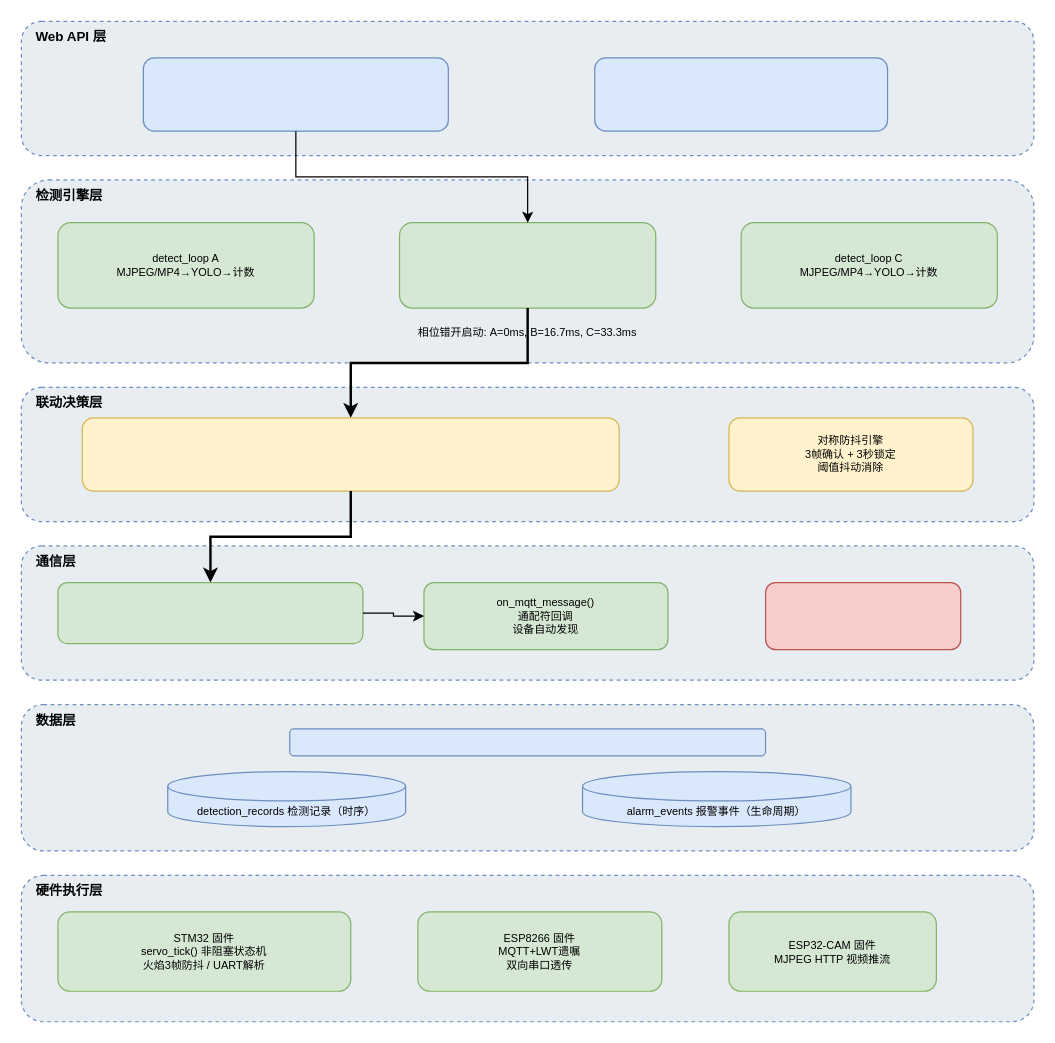
Image size: 1055x1043. Some labels were removed from this diagram. Here are the shapes that lost their labels. From the top down, the centre of each, then its label:
At point 295,94: "Flask Web Server 15个 REST API 路由".
At point 741,94: "Jinja2 模板引擎 index.html 仪表盘".
At point 527,264: "detect_loop B MJPEG/MP4→YOLO→计数".
At point 350,454: "coordinated_decision() 饱和度快照 → 四策略判定 → 每设备指令生成".
At point 210,612: "mqtt_send_to() + broadcast() MQTT 指令定向下发".
At point 862,615: "alarm_notify() 钉钉机器人 报警推送".
At point 527,742: "SQLite (campus_monitor/)".
